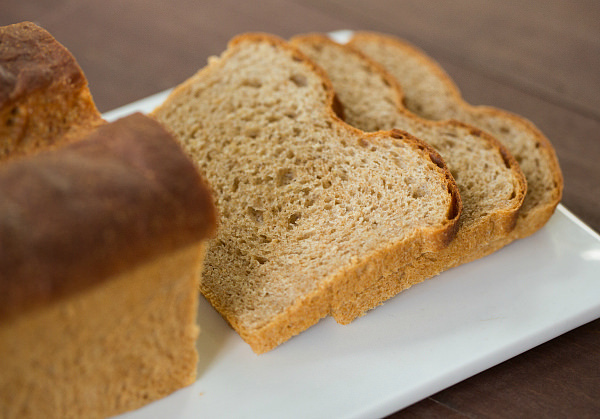slice of bread: (139, 22, 574, 343), (147, 23, 459, 347), (264, 32, 583, 333)
